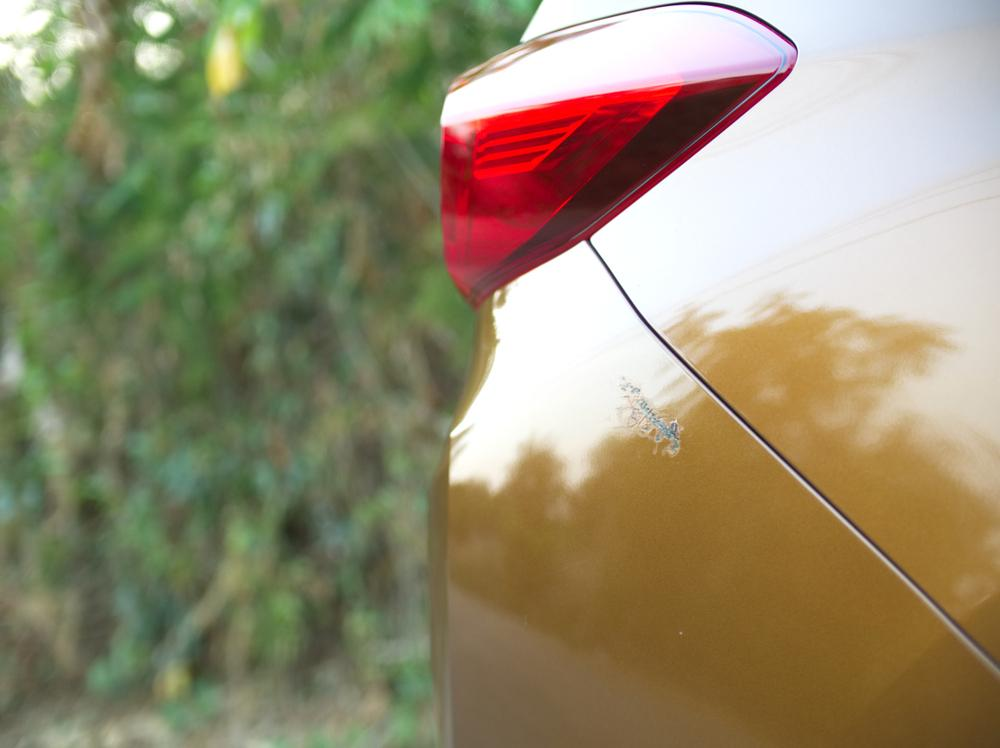scratch: (610, 365, 694, 463)
